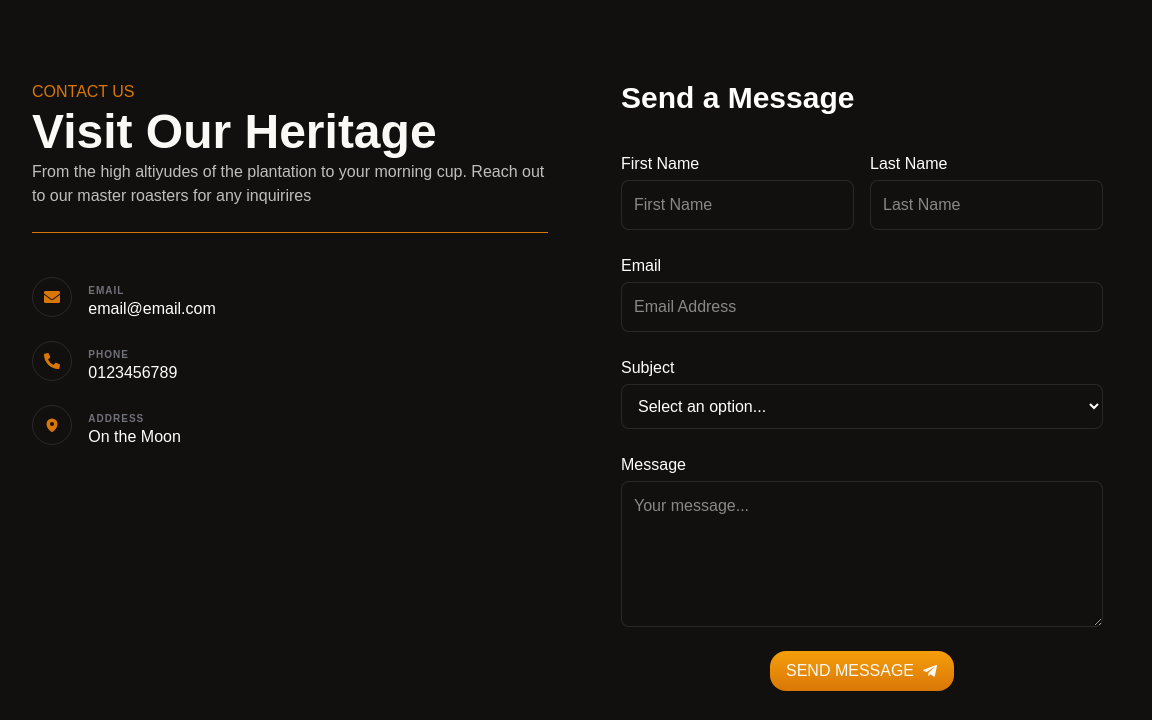
Scenario: Contact Page › shows error message when API fails
Type "John" into the field with placeholder "First Name" at (738, 205), box [621, 180, 854, 230]
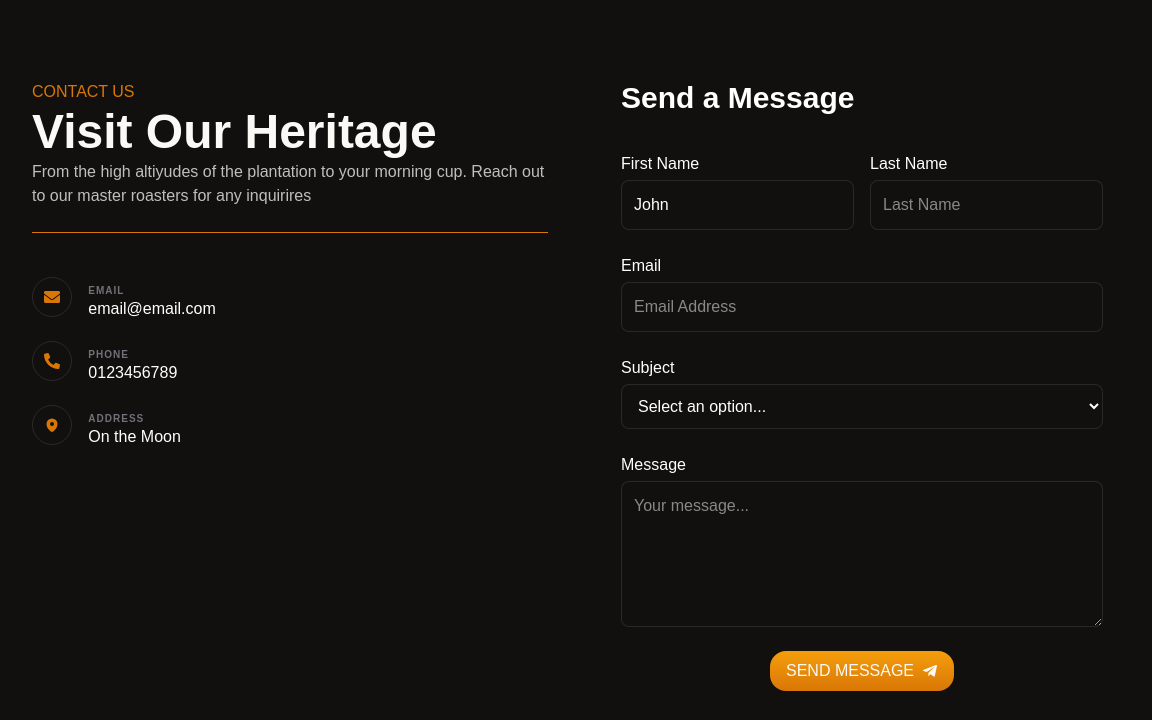
Type "Doe" into the field with placeholder "Last Name" at (986, 205), box [870, 180, 1103, 230]
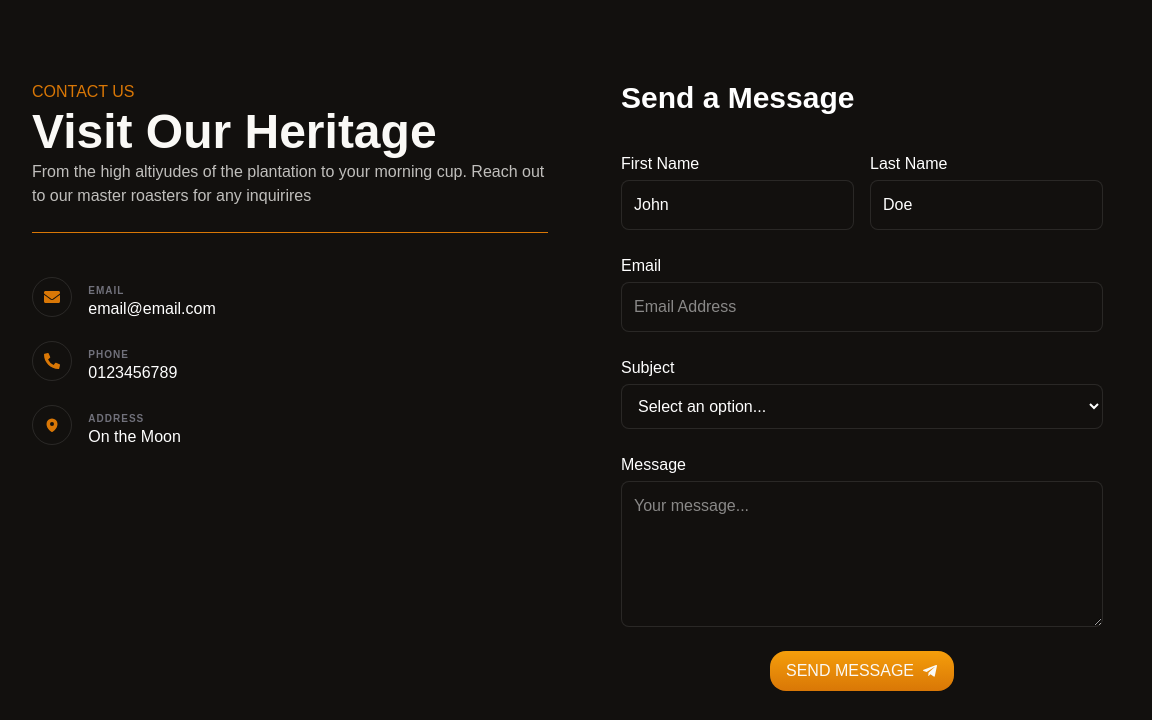
Type "john@example.com" into the field with placeholder "Email Address" at (862, 307), box [621, 282, 1103, 332]
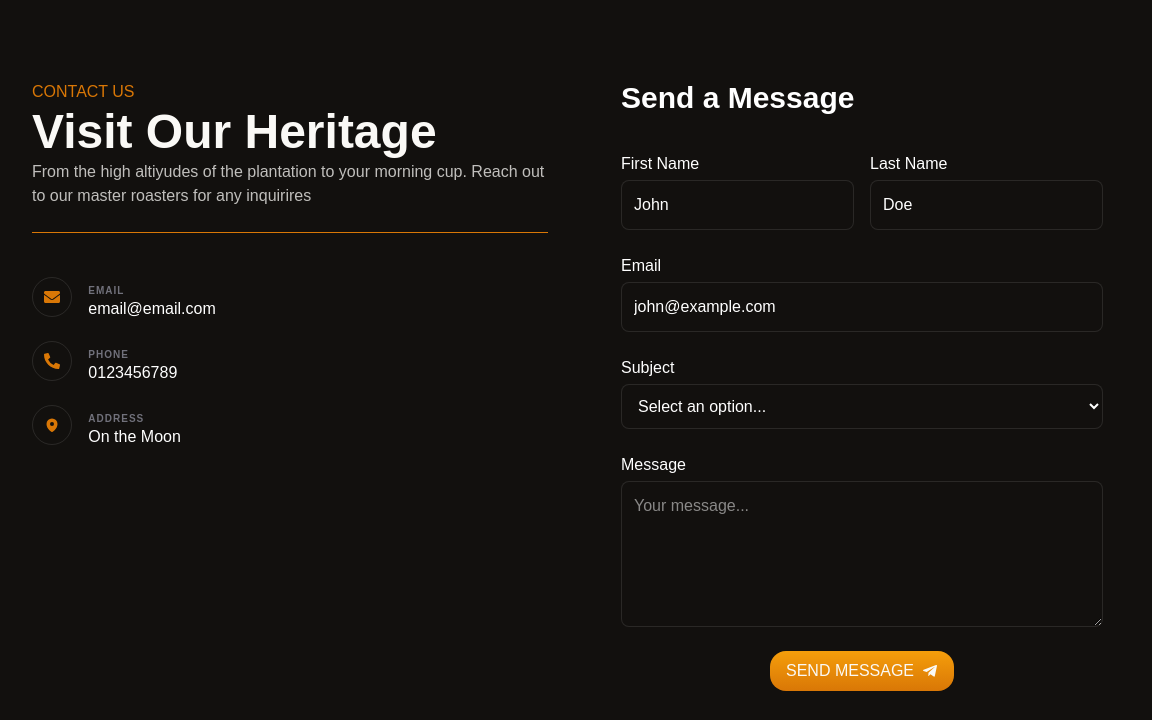
Select "Customer Support" in the dropdown labelled "Subject" at (862, 406), box [621, 384, 1103, 429]
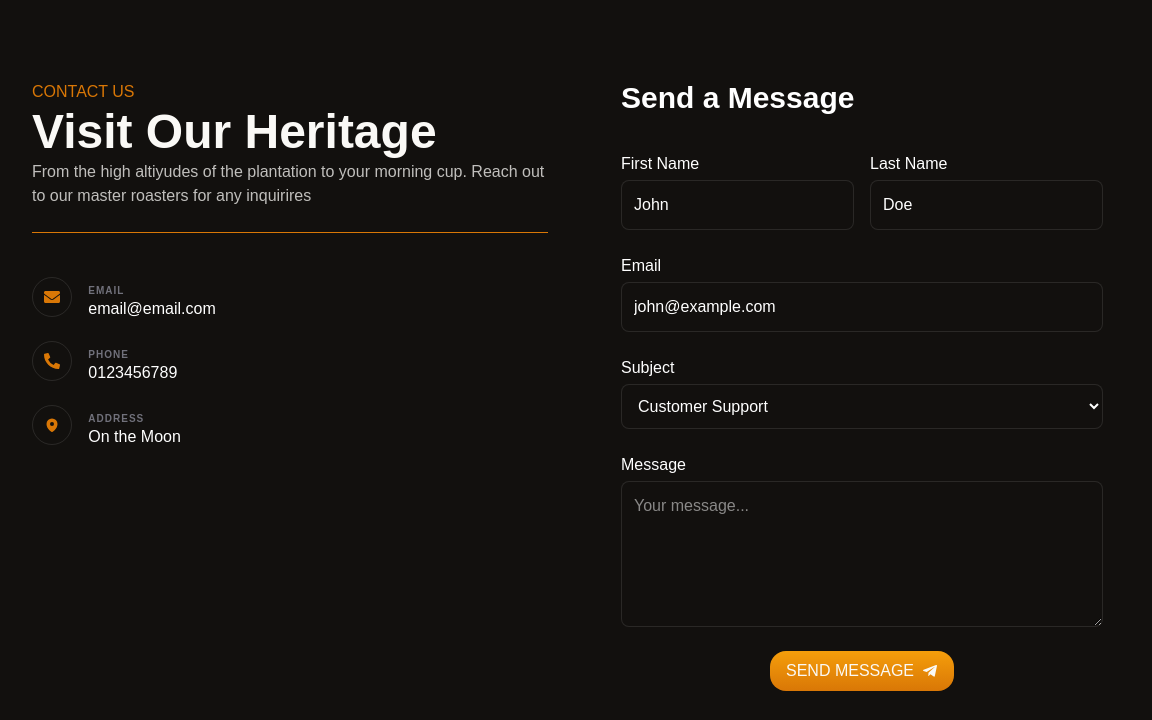
Type "Valid message length here" into the text box with placeholder "Your message..." at (862, 554), box [621, 481, 1103, 627]
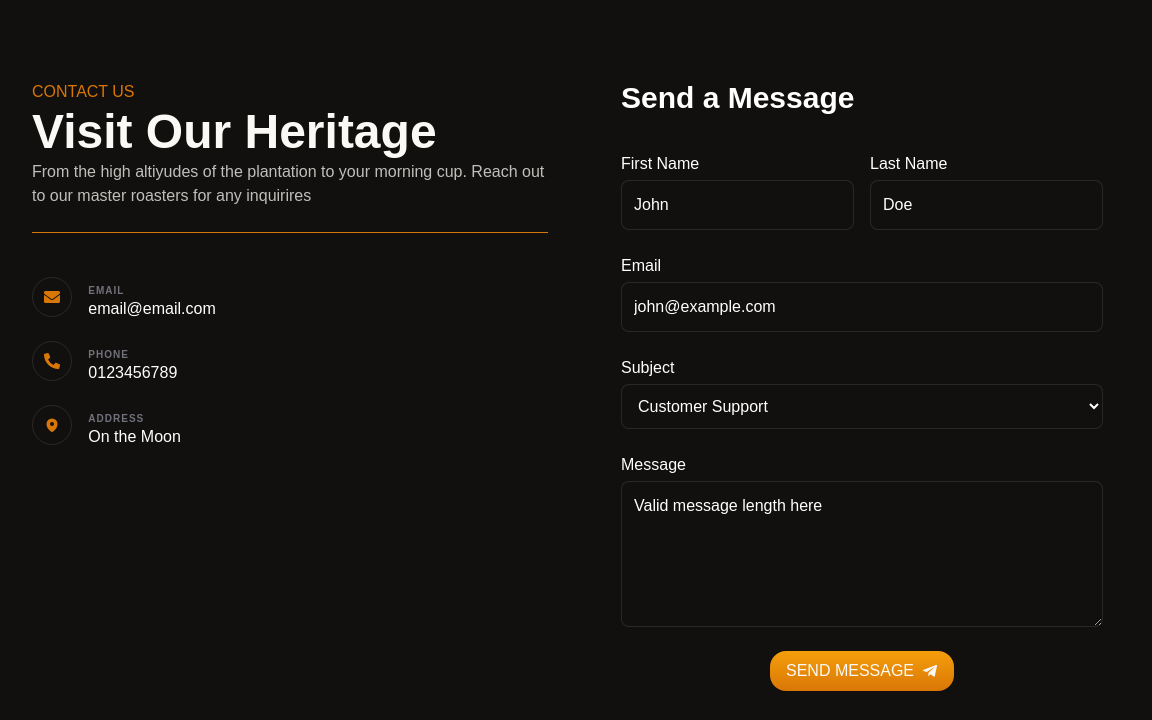
Click the button "Send Message" at (862, 671), box [770, 651, 954, 691]
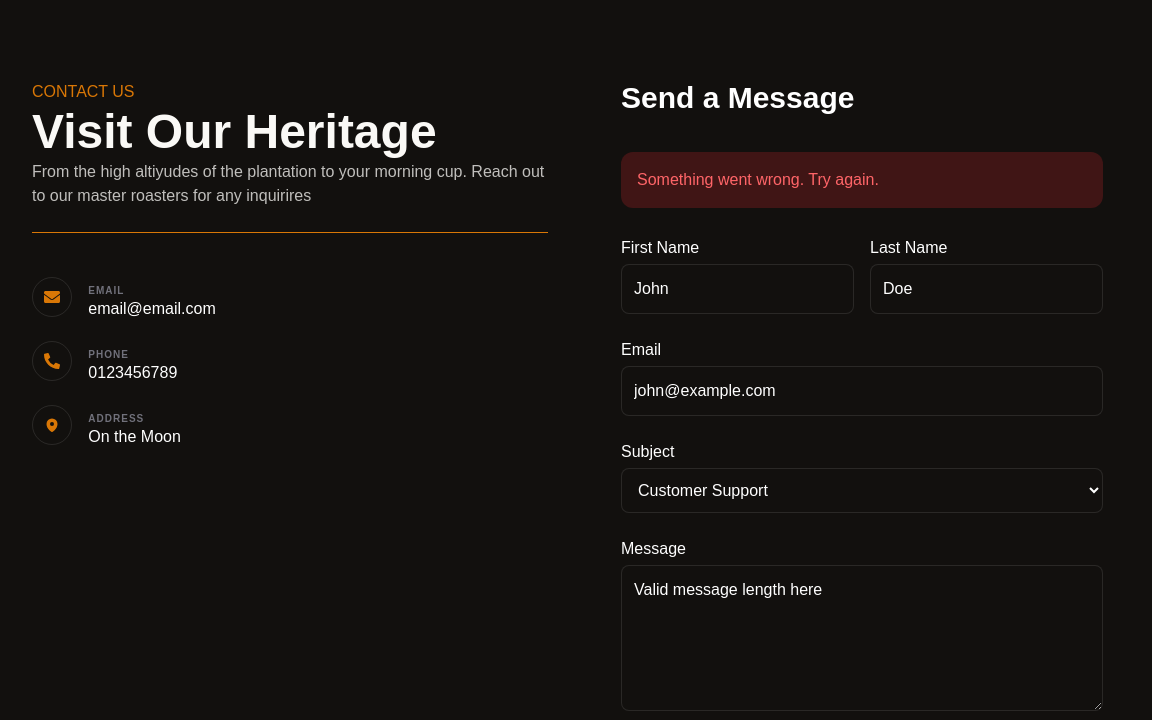
Check: the text "Something went wrong. Try again." is shown, box [621, 152, 1103, 208]
